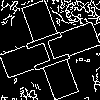H: (25, 25, 80, 74)
